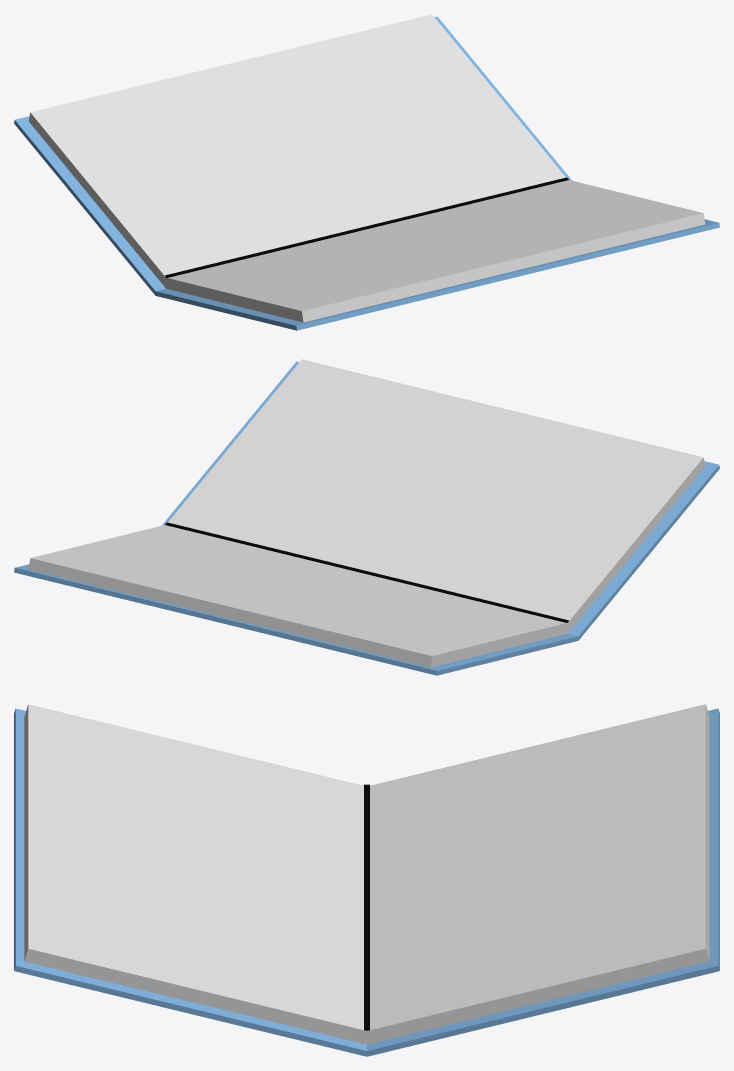
The picture shows the model from 3 angles, top to bottom: view 1: azimuth 30°, elevation 25°; view 2: azimuth 150°, elevation 25°; view 3: azimuth 270°, elevation 25°; orthographic projection. The views are drawn at different scales.
Visible parts, largest first — view 1: Book_Left_4, Hoja_5, Book_Right_2, Line in the middle_3; view 2: Hoja_5, Book_Left_4, Book_Right_2, Line in the middle_3; view 3: Book_Left_4, Hoja_5, Book_Right_2, Line in the middle_3.
Boxes of the visible parts, box(x1,y1,x2,y2) form: Book_Left_4: box(14, 14, 571, 295); Hoja_5: box(171, 180, 699, 310); Book_Right_2: box(155, 180, 719, 330); Line in the middle_3: box(165, 177, 568, 277); Hoja_5: box(170, 361, 699, 619); Book_Left_4: box(14, 525, 578, 675); Book_Right_2: box(162, 359, 719, 640); Line in the middle_3: box(165, 522, 568, 622); Book_Left_4: box(361, 704, 719, 1056); Hoja_5: box(31, 706, 361, 1028); Book_Right_2: box(14, 704, 366, 1056); Line in the middle_3: box(364, 784, 369, 1030).
Bounding box in the file's own units: 2 × 0.3685 × 2.32.
